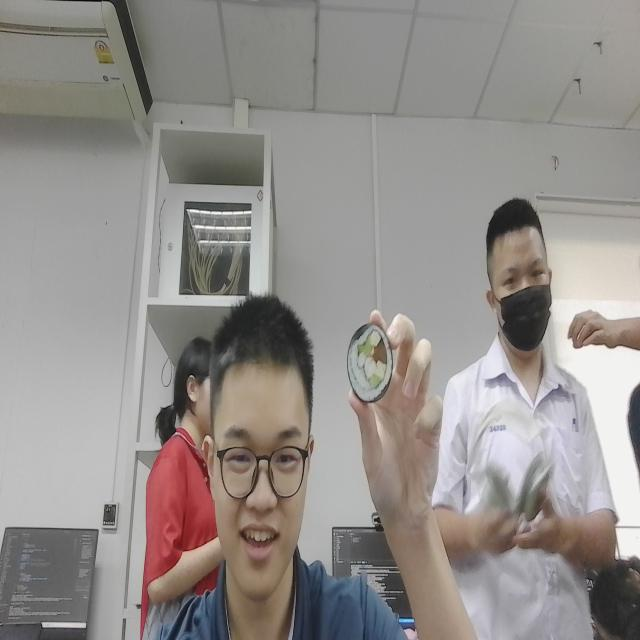sushi: (342, 318, 396, 416)
